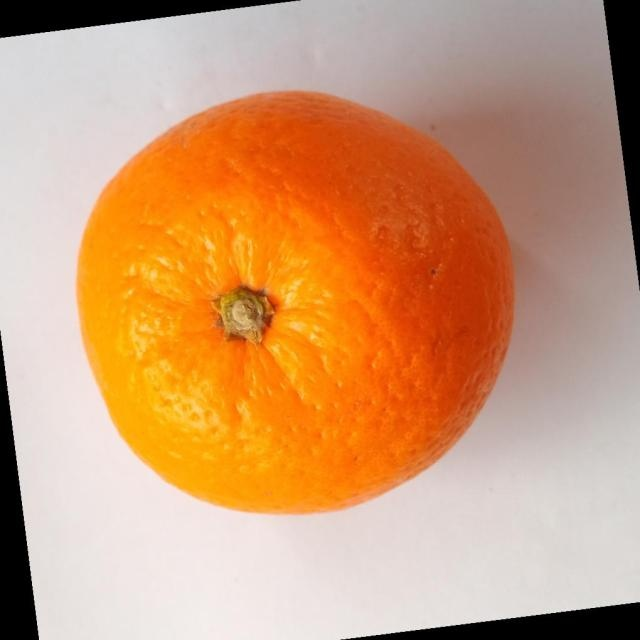agrume: (75, 88, 516, 516)
